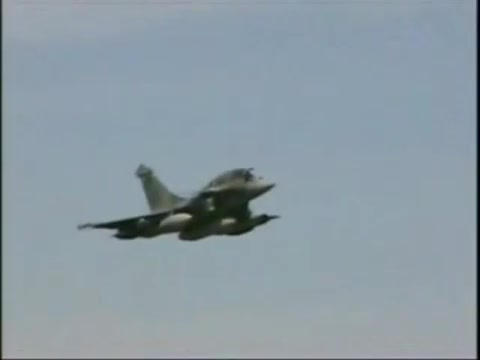aeroplane: (77, 164, 284, 243)
